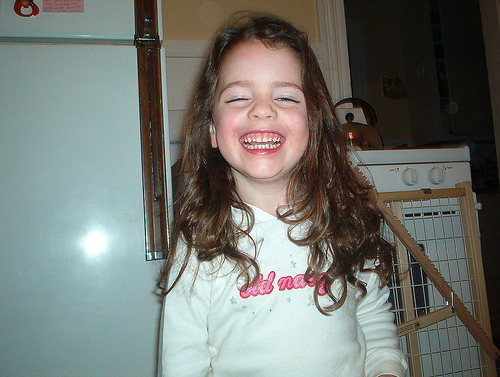without_mask: (208, 41, 312, 184)
